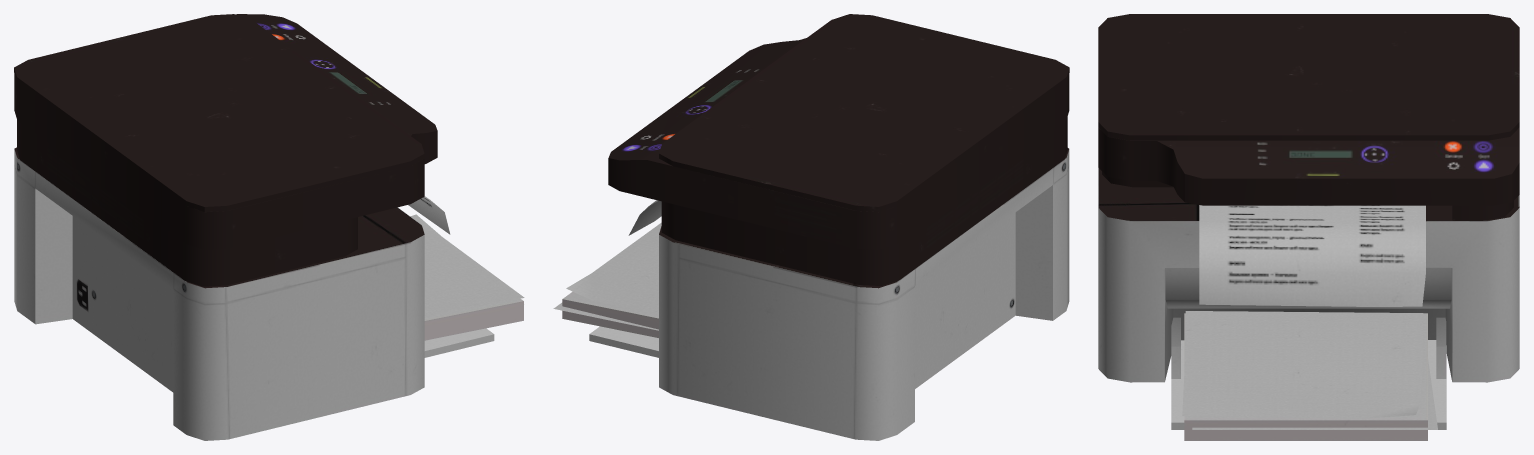
Rendered from Printe.fbx.
The picture shows the model from 3 angles, left to right: view 1: azimuth 30°, elevation 25°; view 2: azimuth 150°, elevation 25°; view 3: azimuth 270°, elevation 25°; orthographic projection. The views are drawn at different scales.
Visible parts, largest first — view 1: Printe; view 2: Printe; view 3: Printe.
Part boxes in pixels (x1,y1,x2,y2): Printe: (14, 14, 524, 440); Printe: (553, 14, 1069, 440); Printe: (1098, 14, 1519, 440).
Bounding box in the file's own units: 0.4239 × 0.3985 × 0.2581.
